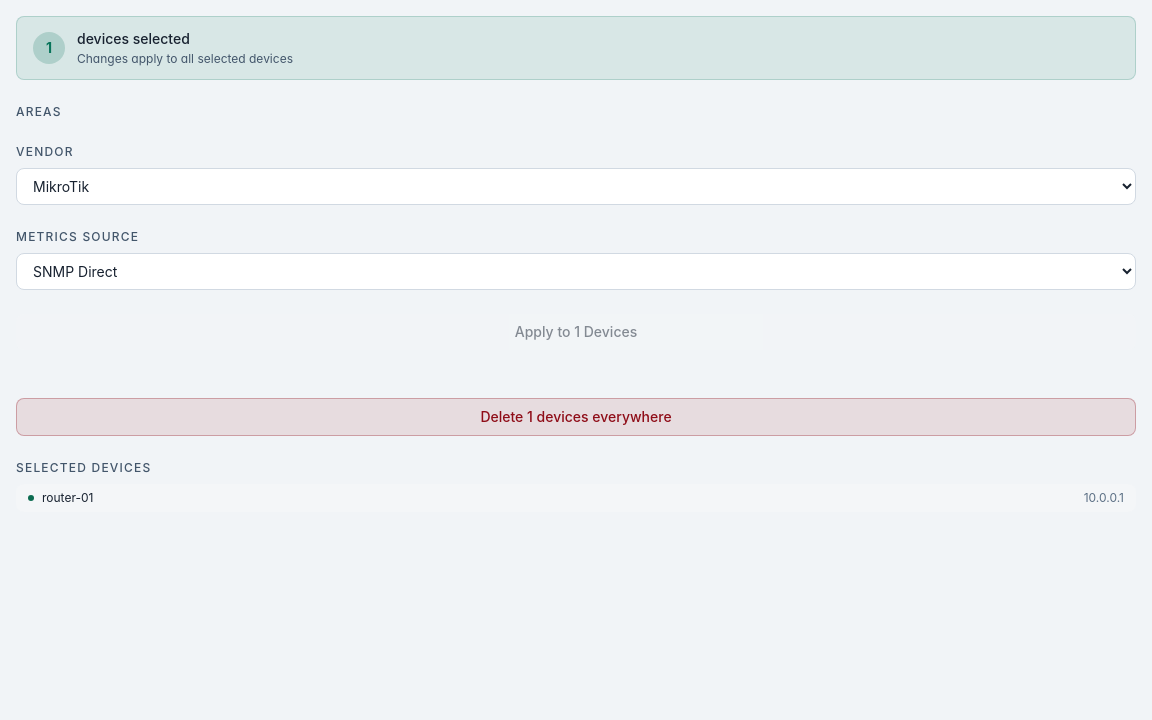
Test: BulkEditPanel — per-device error loop handles ServerError › shows ValidationError message when a device update returns ValidationError
Select "-- Select vendor --" in the dropdown showing "MikroTik" below "Vendor" at coordinates (576, 186), box [16,168,1136,205]
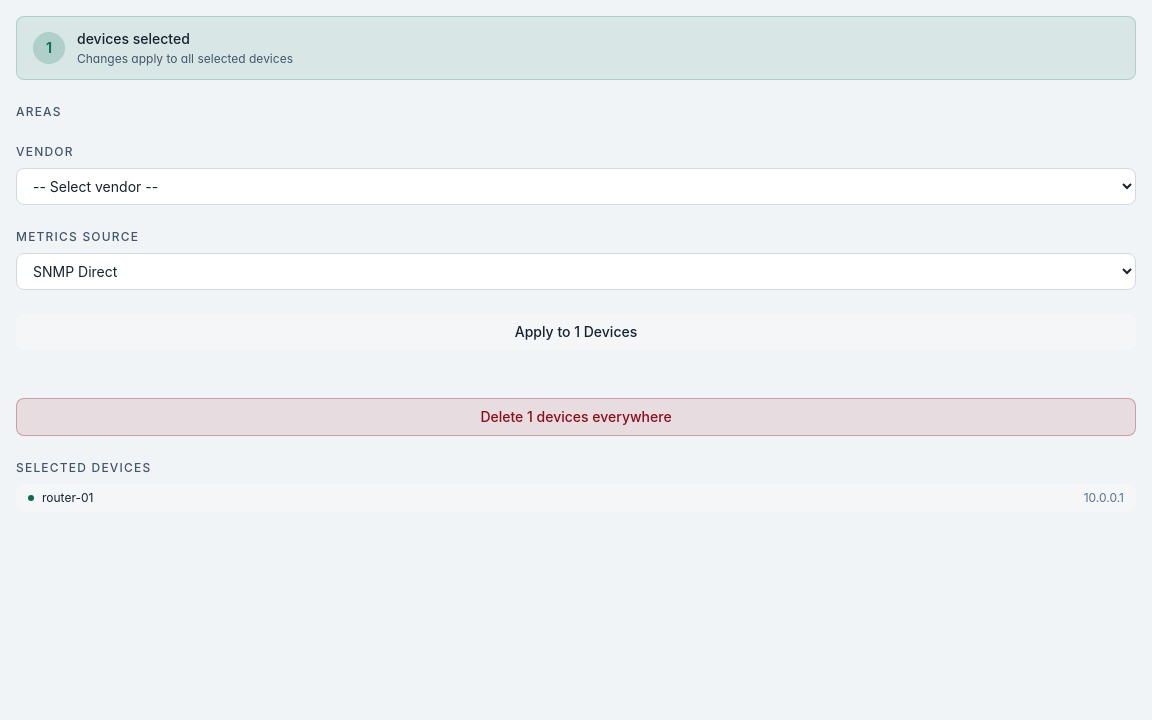
Click the button "Apply to 1 Devices" at coordinates (576, 332), box [16,314,1136,350]
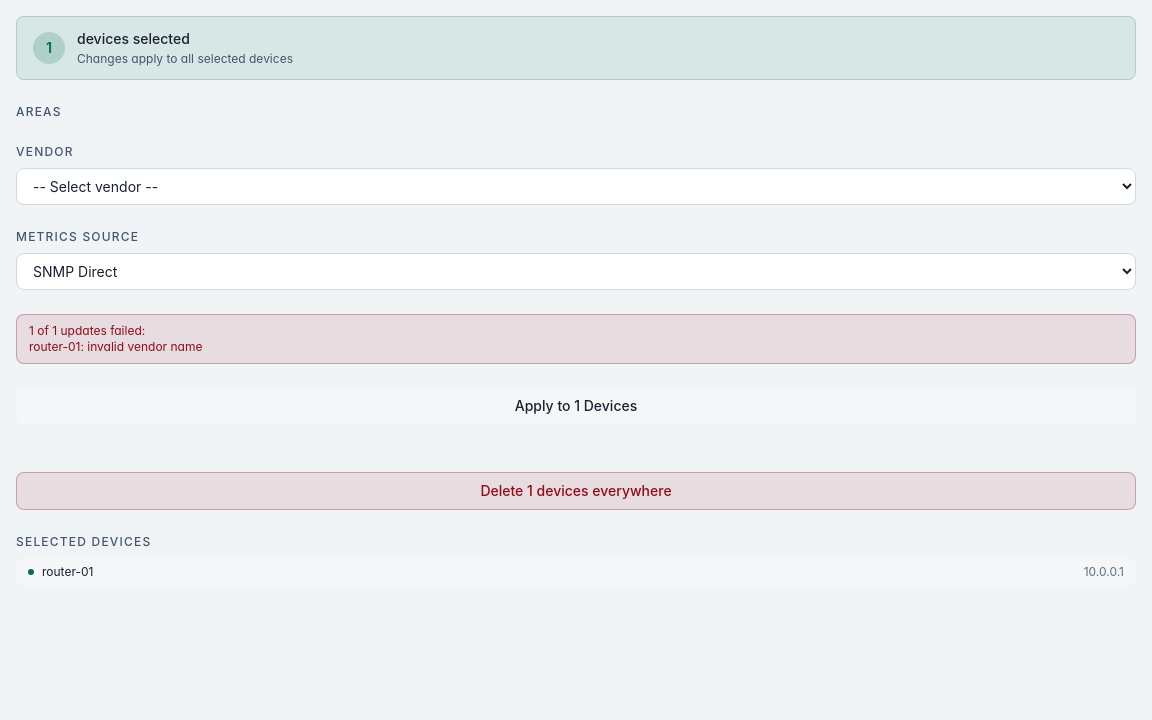
Check: the text "1 of 1 updates failed: router-01: invalid vendor name" is shown, box [16,314,1136,364]
